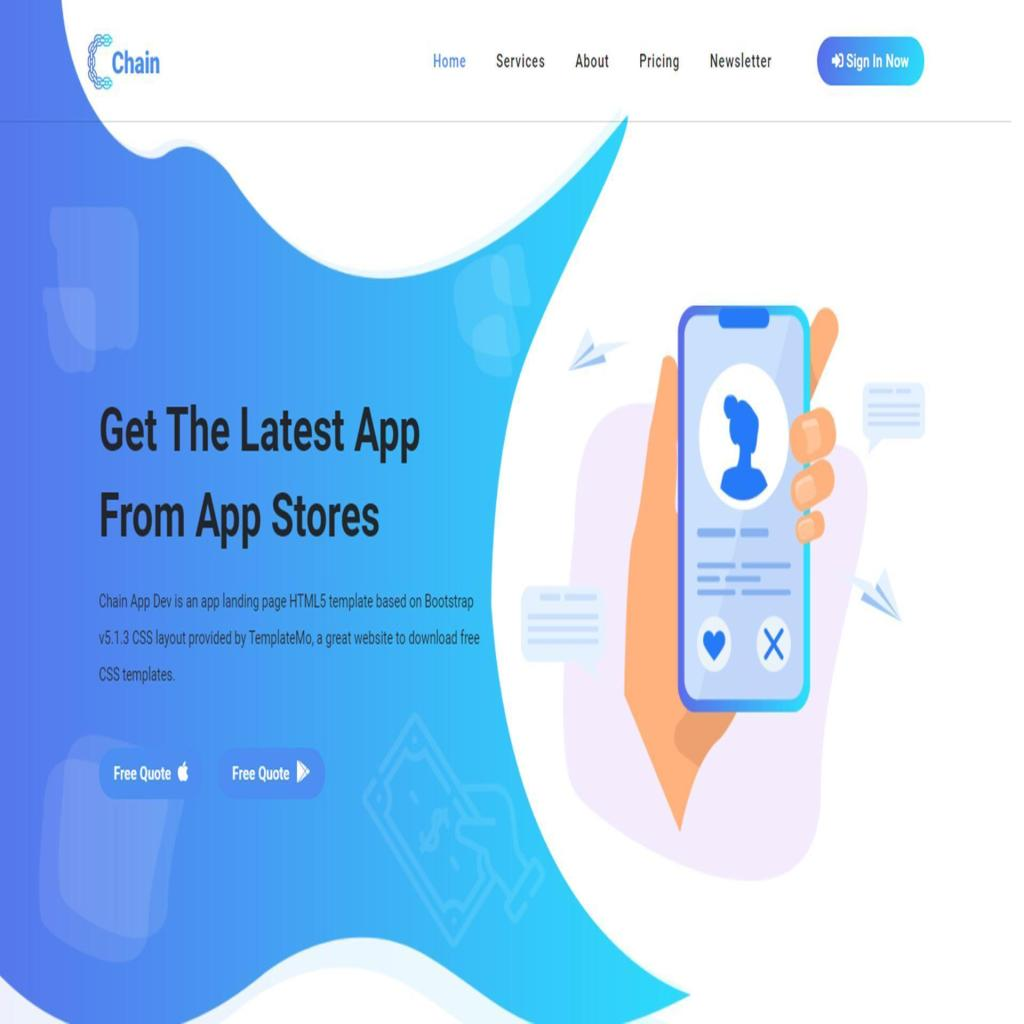button: (218, 746, 327, 800), (98, 749, 202, 800), (818, 37, 925, 86)
icon: (702, 626, 726, 663), (763, 624, 785, 662)
label: (708, 47, 774, 72), (496, 49, 547, 73), (639, 49, 682, 72), (574, 50, 612, 73), (432, 53, 471, 72)
